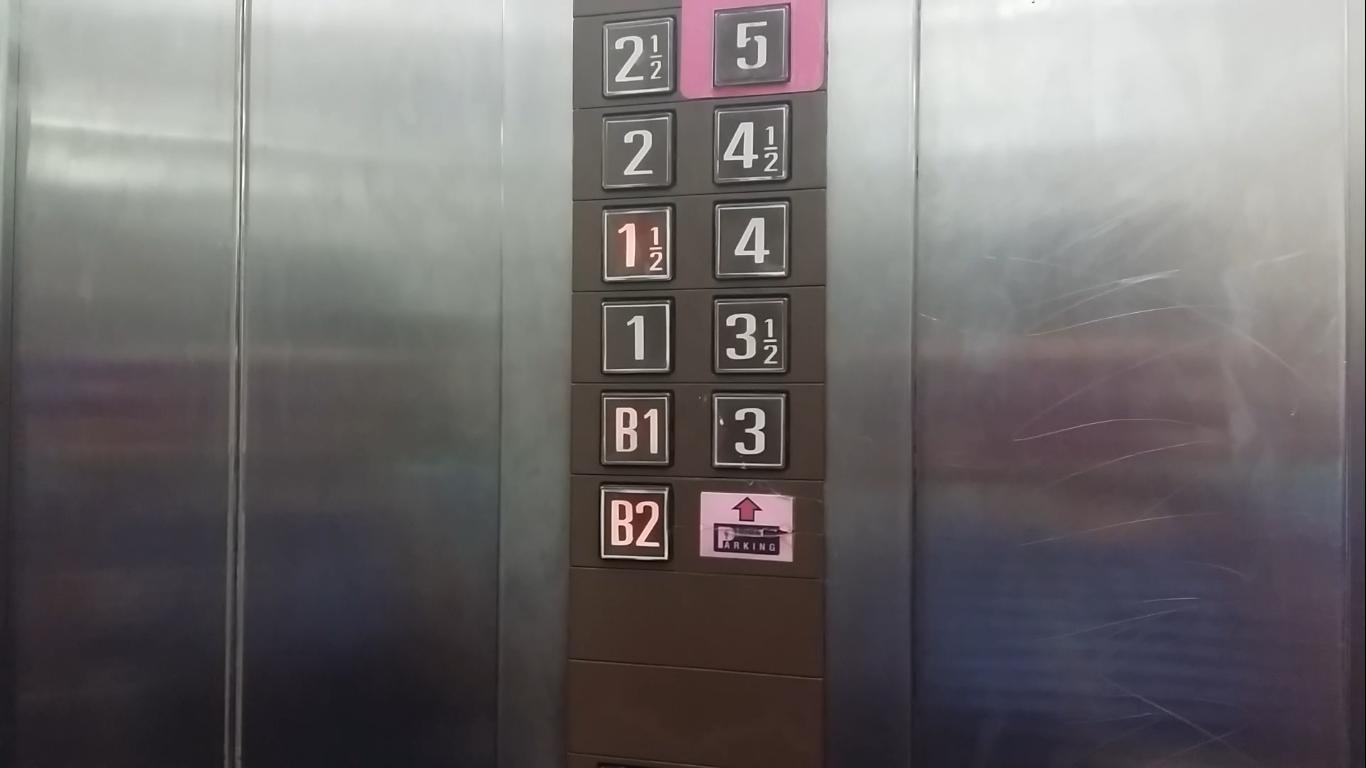1: (599, 295, 677, 374)
2: (595, 108, 677, 192)
3: (707, 390, 786, 468)
4: (714, 202, 793, 281)
5: (709, 1, 794, 91)
B1: (598, 390, 672, 465)
B2: (599, 481, 675, 564)
unknown: (597, 13, 677, 103), (597, 197, 677, 287), (711, 98, 791, 188)
